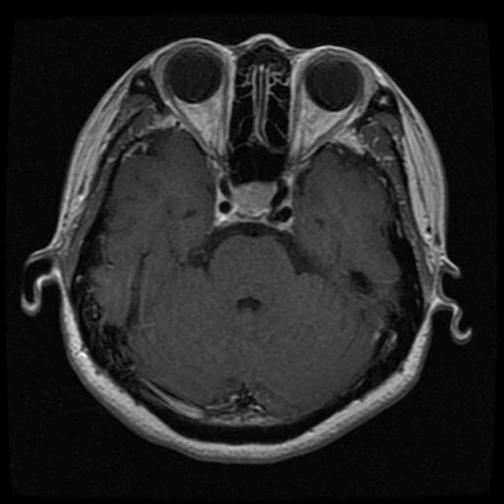Tumour-Pituitary: (207, 174, 302, 239)
